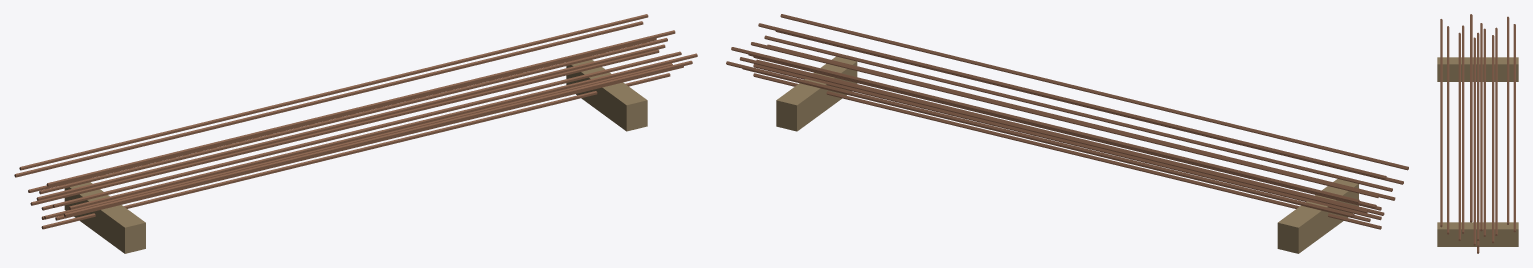
File: rebar_pile.glb
The picture shows the model from 3 angles, left to right: view 1: azimuth 30°, elevation 25°; view 2: azimuth 150°, elevation 25°; view 3: azimuth 270°, elevation 25°; orthographic projection. The views are drawn at different scales.
Visible parts, largest first — view 1: rebar.017, rebar.002, rebar.007, rebar.004, rebar.005, rebar.008, rebar.011, rebar.014, rebar.016, rebar.012, bearer, bearer.001 (+3 smaller); view 2: rebar.005, rebar.007, rebar.001, rebar.002, rebar.008, rebar.004, rebar.017, rebar, rebar.012, bearer, bearer.001, rebar.010 (+5 smaller); view 3: bearer.001, bearer, rebar.001, rebar.004, rebar.005, rebar.007, rebar.008, rebar.010, rebar.011, rebar.013, rebar.014, rebar.016 (+3 smaller).
Boxes of the visible parts, x1=… form: rebar.017: x1=14, y1=21, x2=643, y2=177; rebar.002: x1=19, y1=14, x2=648, y2=170; rebar.007: x1=52, y1=51, x2=681, y2=207; rebar.004: x1=39, y1=38, x2=667, y2=194; rebar.005: x1=46, y1=30, x2=675, y2=186; rebar.008: x1=69, y1=53, x2=697, y2=209; rebar.011: x1=64, y1=60, x2=692, y2=216; rebar.014: x1=36, y1=44, x2=665, y2=200; rebar.016: x1=30, y1=49, x2=659, y2=205; rebar.012: x1=41, y1=73, x2=670, y2=229; bearer: x1=64, y1=182, x2=145, y2=253; bearer.001: x1=566, y1=60, x2=647, y2=131; rebar.005: x1=758, y1=23, x2=1386, y2=179; rebar.007: x1=764, y1=35, x2=1392, y2=191; rebar.001: x1=739, y1=57, x2=1368, y2=213; rebar.002: x1=731, y1=47, x2=1359, y2=203; rebar.008: x1=780, y1=14, x2=1408, y2=170; rebar.004: x1=751, y1=42, x2=1379, y2=197; rebar.017: x1=726, y1=61, x2=1354, y2=217; rebar: x1=753, y1=64, x2=1381, y2=220; rebar.012: x1=753, y1=73, x2=1381, y2=229; bearer: x1=1277, y1=179, x2=1358, y2=253; bearer.001: x1=776, y1=56, x2=857, y2=131; rebar.010: x1=767, y1=44, x2=1395, y2=200; bearer.001: x1=1437, y1=222, x2=1518, y2=246; bearer: x1=1437, y1=57, x2=1518, y2=81; rebar.001: x1=1495, y1=27, x2=1497, y2=235; rebar.004: x1=1480, y1=23, x2=1482, y2=231; rebar.005: x1=1470, y1=14, x2=1472, y2=222; rebar.007: x1=1462, y1=25, x2=1464, y2=233; rebar.008: x1=1440, y1=19, x2=1442, y2=227; rebar.010: x1=1458, y1=32, x2=1460, y2=240; rebar.011: x1=1447, y1=26, x2=1449, y2=234; rebar.013: x1=1473, y1=37, x2=1475, y2=245; rebar.014: x1=1483, y1=28, x2=1485, y2=236; rebar.016: x1=1492, y1=35, x2=1494, y2=243.
Size of what is drawn, in the model's own units: 3 by 0.2968 by 0.5.
